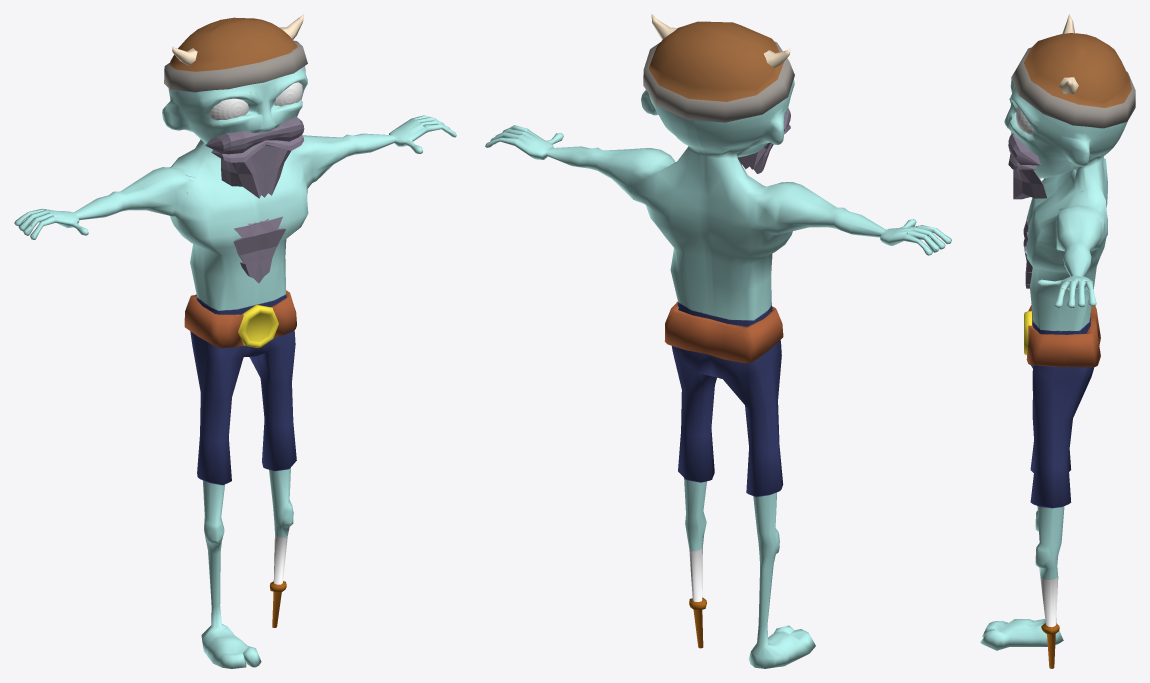
The model's file is Bixo.dae.
3 renders of one model, left to right at view 1: azimuth 30°, elevation 25°; view 2: azimuth 150°, elevation 25°; view 3: azimuth 270°, elevation 25°, orthographic. The views are drawn at different scales.
Visible parts, largest first — view 1: Circle; view 2: Circle; view 3: Circle.
Boxes of the visible parts, bbox=[...] form: Circle: bbox=[14, 14, 456, 668]; Circle: bbox=[485, 14, 951, 668]; Circle: bbox=[980, 14, 1135, 668].
Bounding box in the file's own units: 6.45 × 2.01 × 8.76.
1 material, 1 textured.
